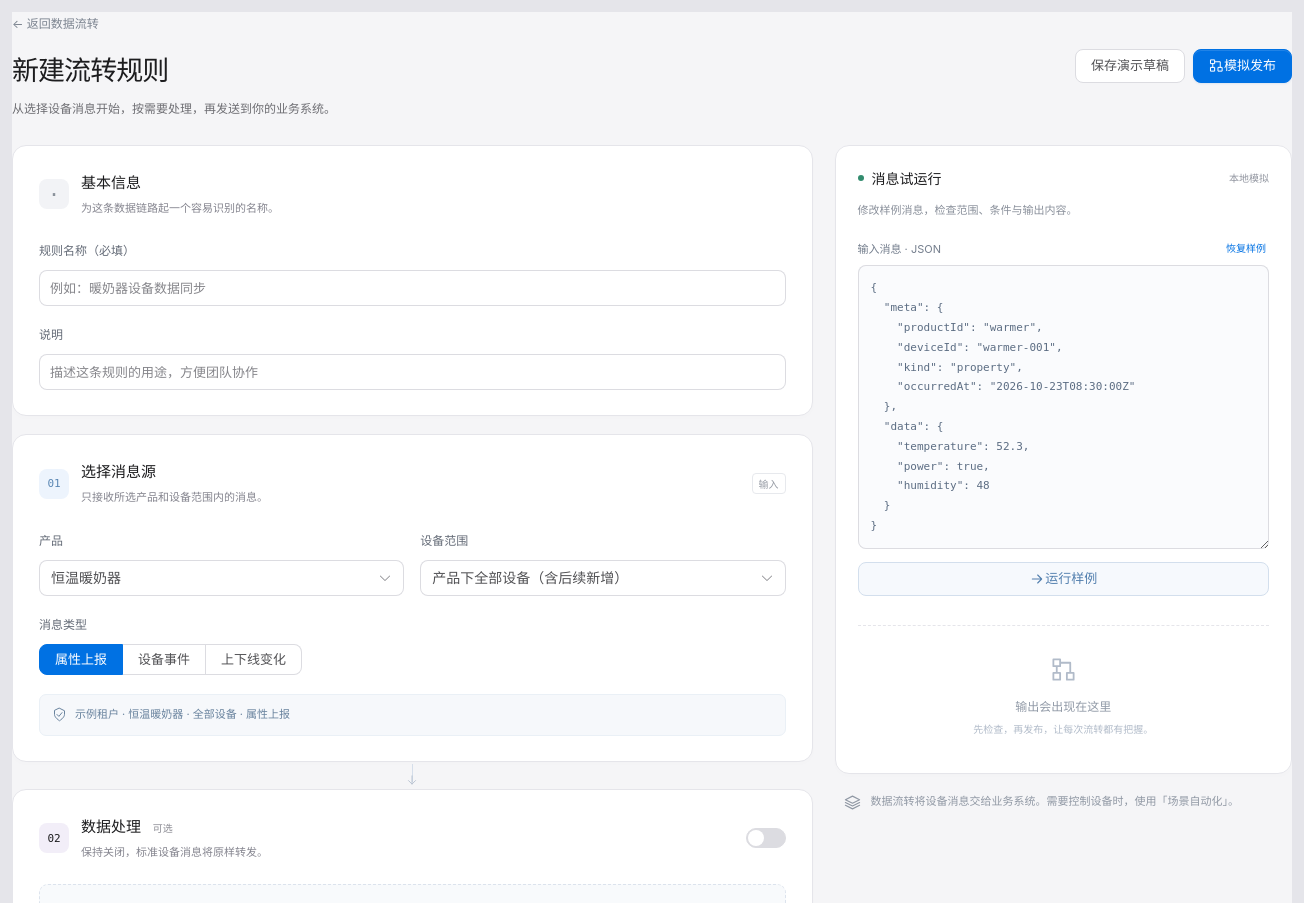
Test case: blocks publishing an unnamed rule without losing the form
Click the button "模拟发布" at (1242, 66), box x1=1193 y1=49 x2=1292 y2=83
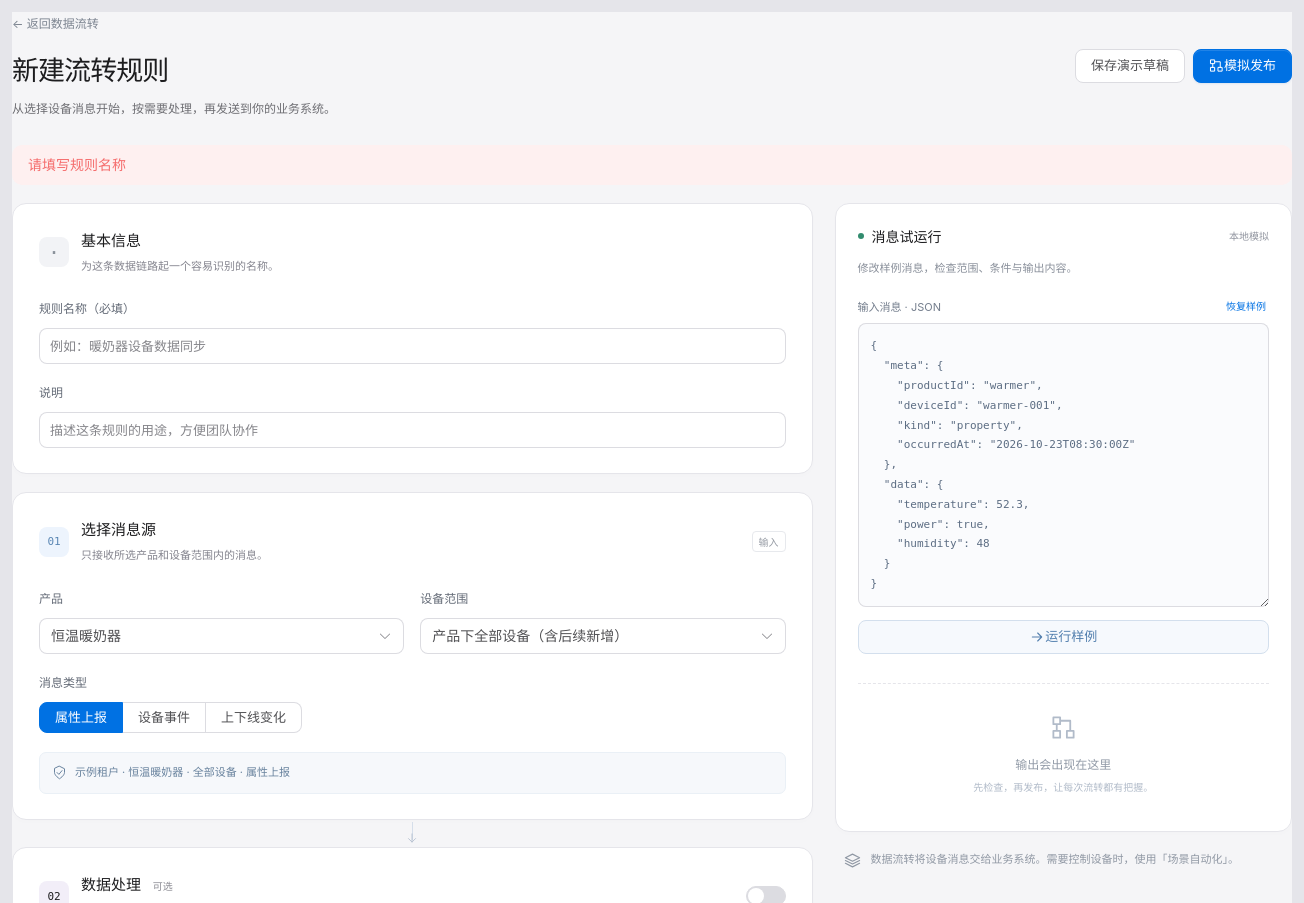
Expected: the field named "规则名称" is shown, x1=50 y1=331 x2=774 y2=361
Expected: the text "请填写规则名称" is shown, x1=28 y1=153 x2=126 y2=177
